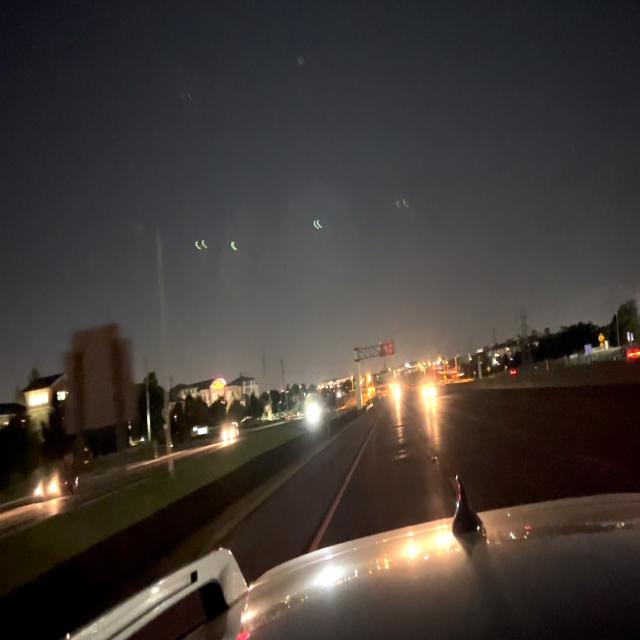back-of-sign: (61, 325, 135, 436)
